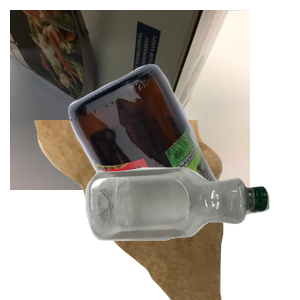cardboard: (10, 10, 250, 190)
glass: (66, 61, 300, 241)
plastic: (83, 165, 300, 300)
trash: (32, 120, 248, 300)
